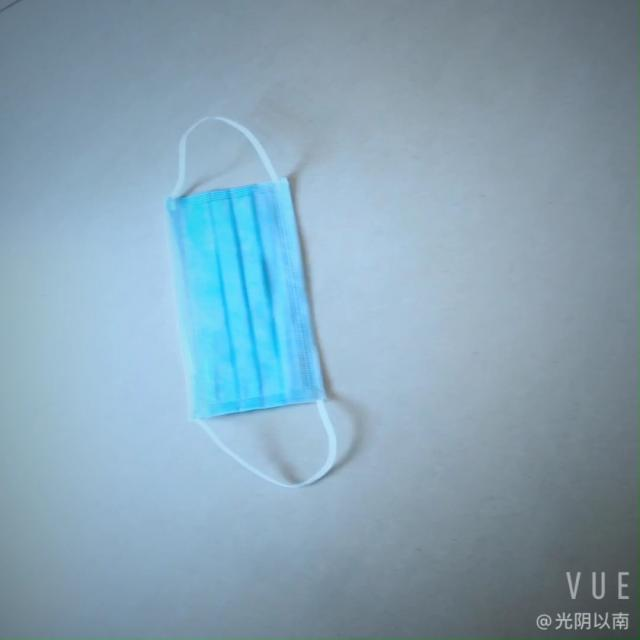face mask: (175, 162, 328, 422)
